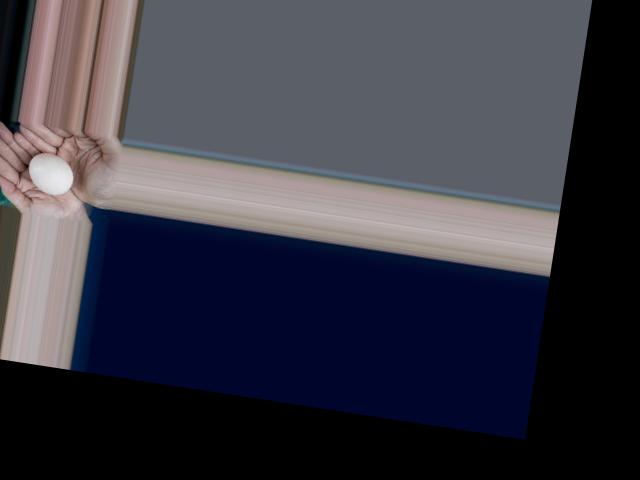egg: (25, 151, 75, 196)
